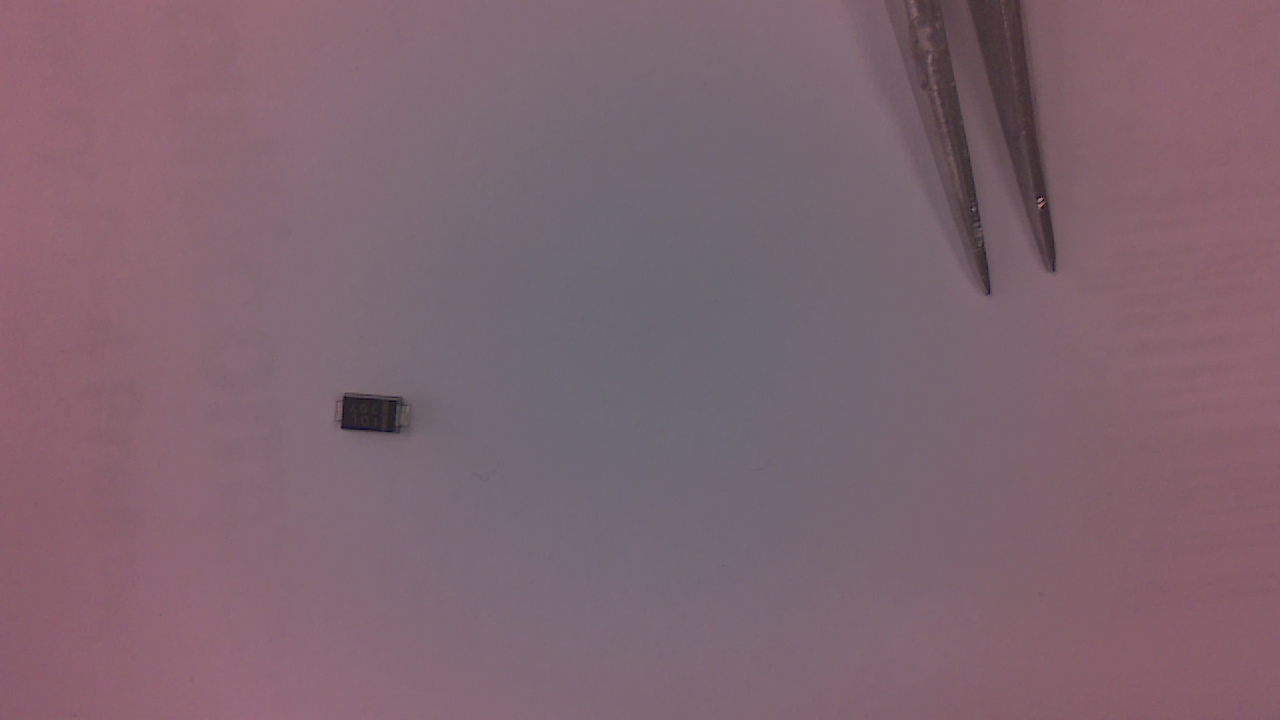Diode: (330, 399, 419, 443)
